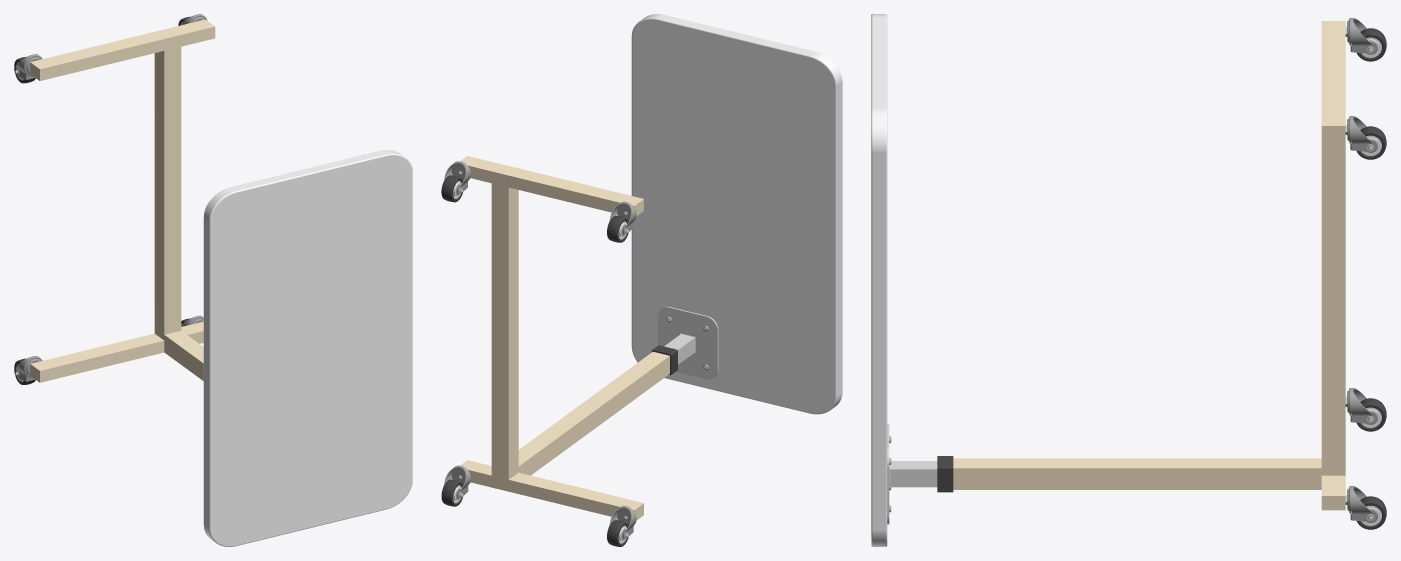
The model's file is table.obj.
The picture shows the model from 3 angles, left to right: view 1: azimuth 30°, elevation 25°; view 2: azimuth 150°, elevation 25°; view 3: azimuth 270°, elevation 25°; orthographic projection. The views are drawn at different scales.
Visible parts, largest first — view 1: obj1.069; view 2: obj1.069; view 3: obj1.069.
Boxes of the visible parts, x1,y1,x2,y2 form: obj1.069: [14, 14, 412, 546]; obj1.069: [441, 14, 842, 546]; obj1.069: [871, 14, 1386, 546].
Size of the model in its own units: 0.4572 by 0.7619 by 0.8178.
